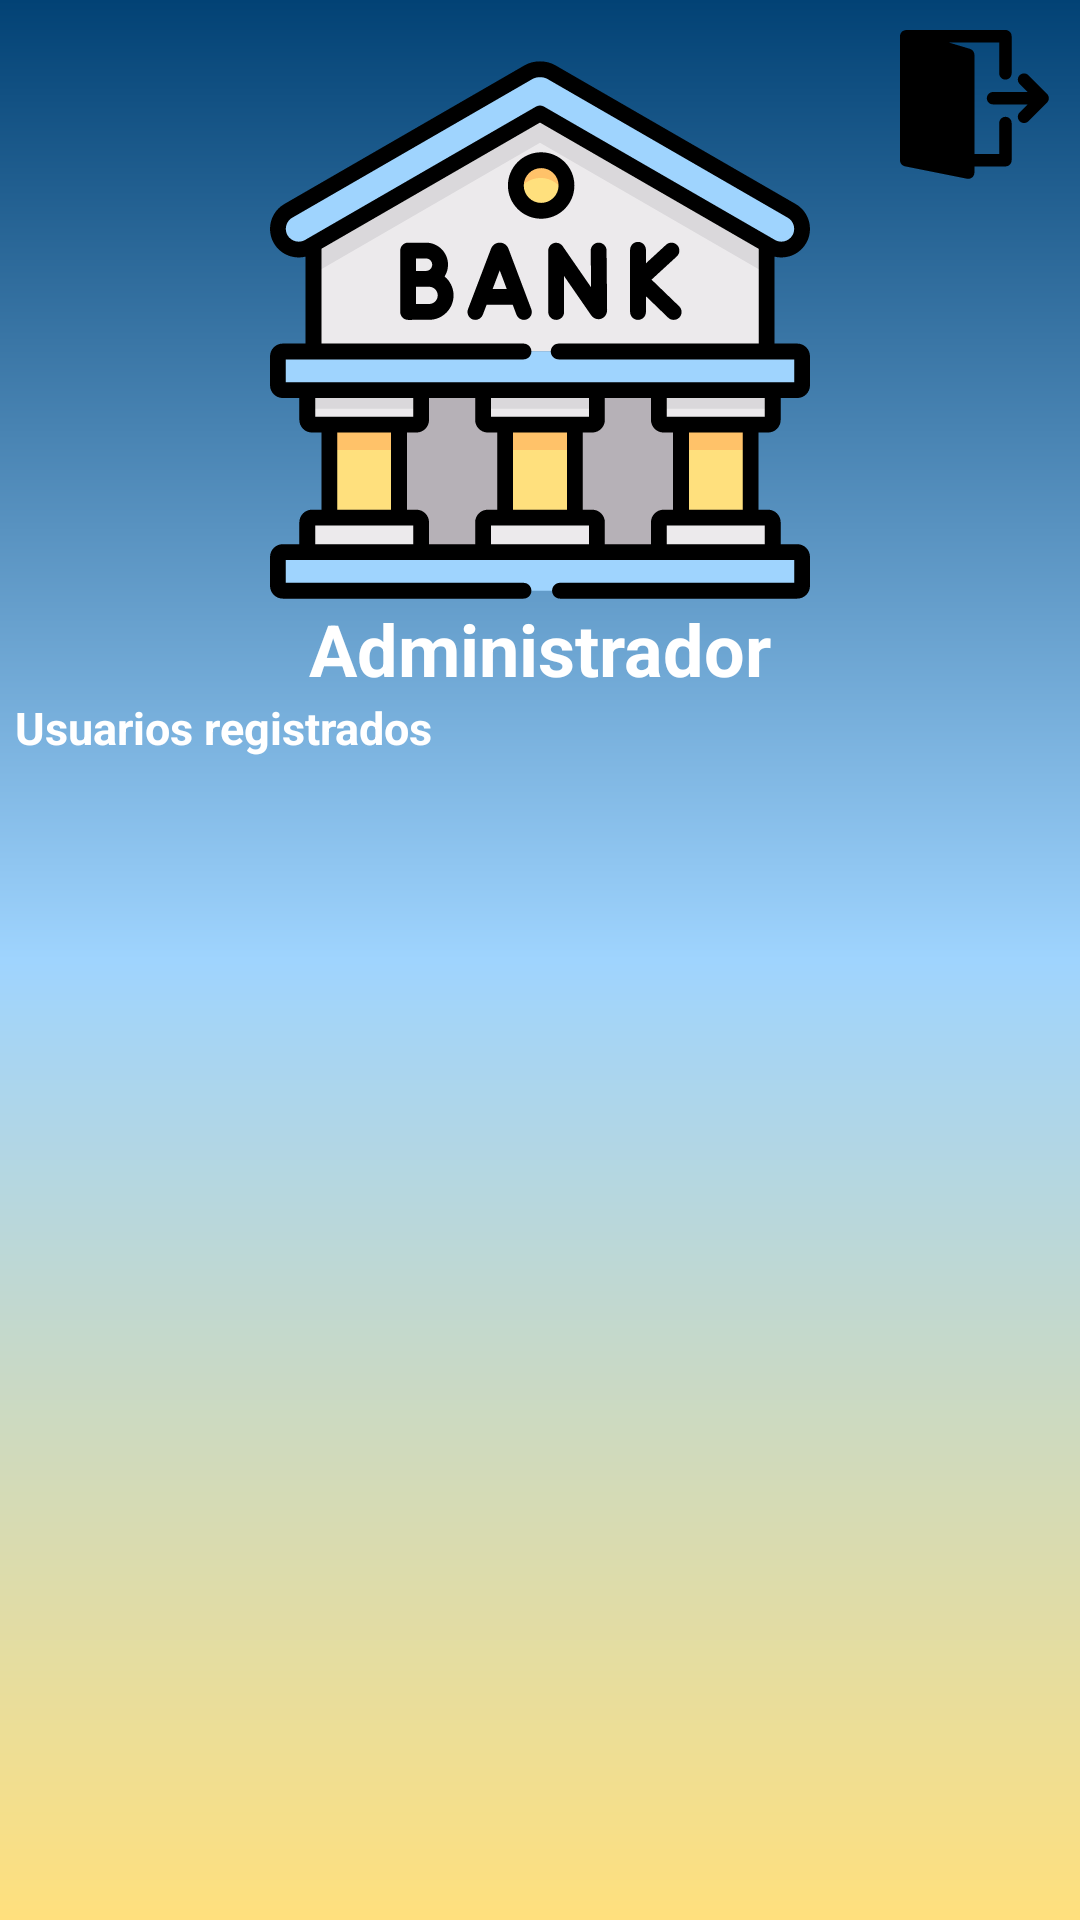

Icons on this 1080x1920 Android screen, each with the point to tap as (x=x, y=y):
salir: (x=975, y=105)
